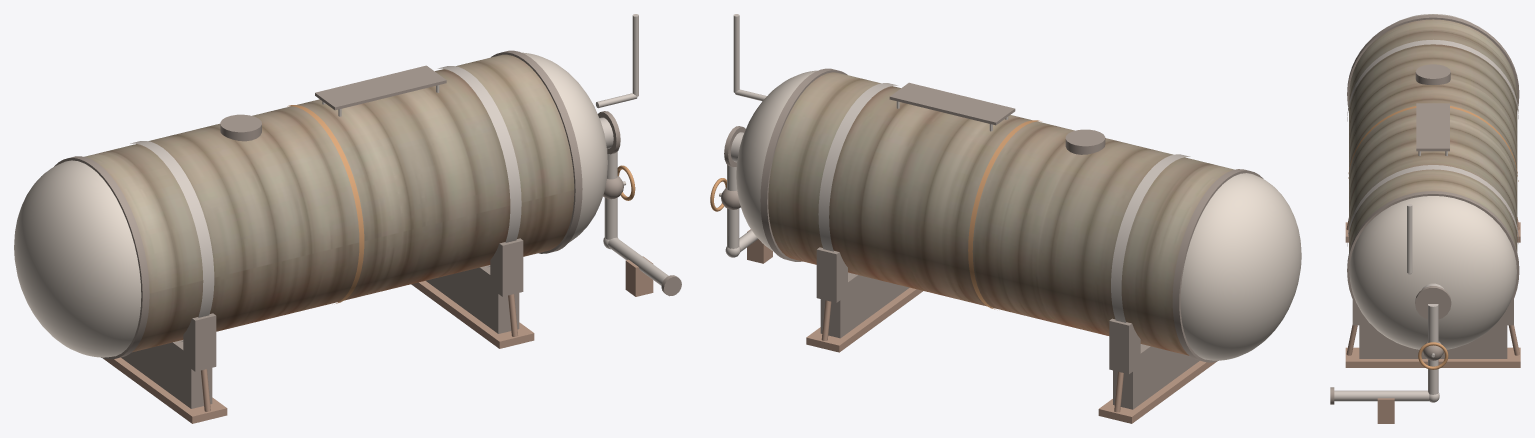
Rendered from E09_horizontal_tank_8m.glb.
The picture shows the model from 3 angles, left to right: view 1: azimuth 30°, elevation 25°; view 2: azimuth 150°, elevation 25°; view 3: azimuth 270°, elevation 25°; orthographic projection. The views are drawn at different scales.
Parts seen in each view (by area): view 1: tank, end_dome, end_ring, strap, base_plate; view 2: tank, end_dome, end_ring, strap, base_plate; view 3: tank, end_dome, end_ring, strap, base_plate.
Part boxes in pixels (left/top/right/bottom): tank: left=84, top=54, right=574, bottom=352; end_dome: left=14, top=52, right=635, bottom=357; end_ring: left=54, top=50, right=681, bottom=408; strap: left=130, top=14, right=668, bottom=342; base_plate: left=103, top=256, right=653, bottom=423; tank: left=768, top=72, right=1234, bottom=355; end_dome: left=710, top=70, right=1301, bottom=360; end_ring: left=721, top=68, right=1263, bottom=409; strap: left=719, top=14, right=1190, bottom=346; base_plate: left=747, top=229, right=1216, bottom=423; tank: left=1349, top=19, right=1517, bottom=251; end_dome: left=1348, top=14, right=1518, bottom=369; end_ring: left=1330, top=14, right=1519, bottom=404; strap: left=1334, top=39, right=1518, bottom=402; base_plate: left=1345, top=217, right=1520, bottom=423.
Bounding box in the file's own units: 8.52 × 3.6 × 2.83.
Materials: 5 (1 with a texture image).
